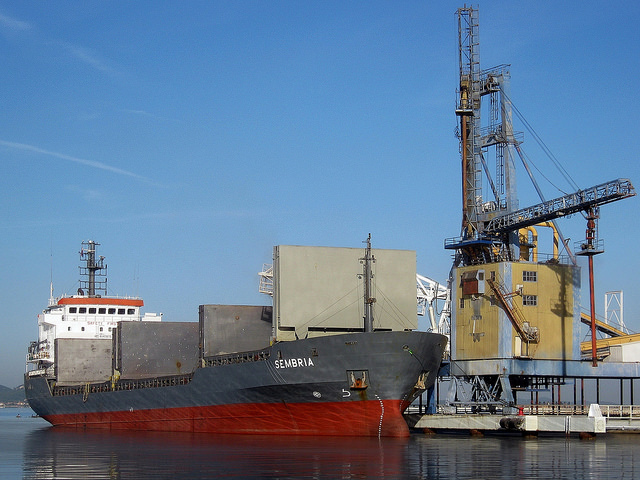bulk carrier: (25, 239, 447, 442)
